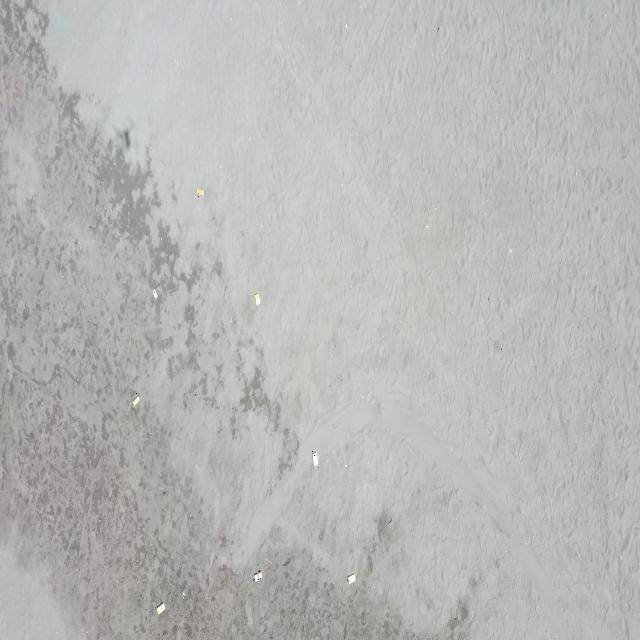Garbage: (252, 568, 260, 580), (131, 395, 139, 407), (312, 451, 318, 467), (123, 129, 128, 148), (347, 572, 355, 583), (156, 602, 164, 613), (253, 292, 260, 304), (152, 288, 158, 299), (196, 187, 203, 196), (267, 559, 272, 566), (183, 591, 186, 599)
